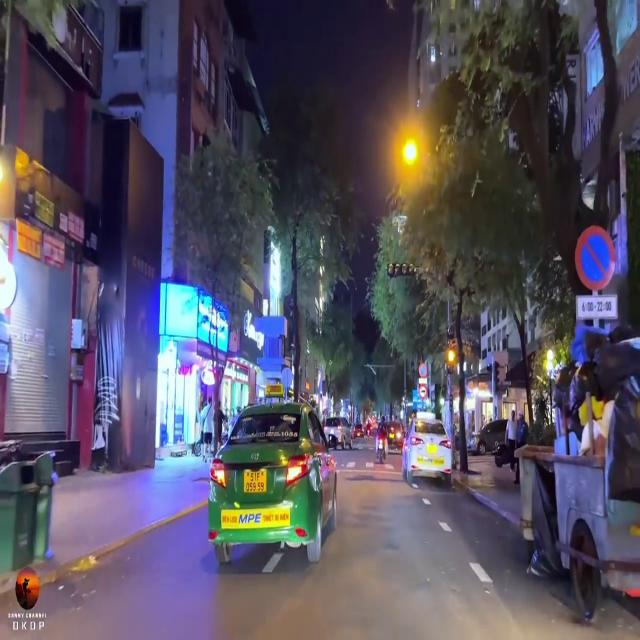bien_vang: (242, 468, 272, 499)
